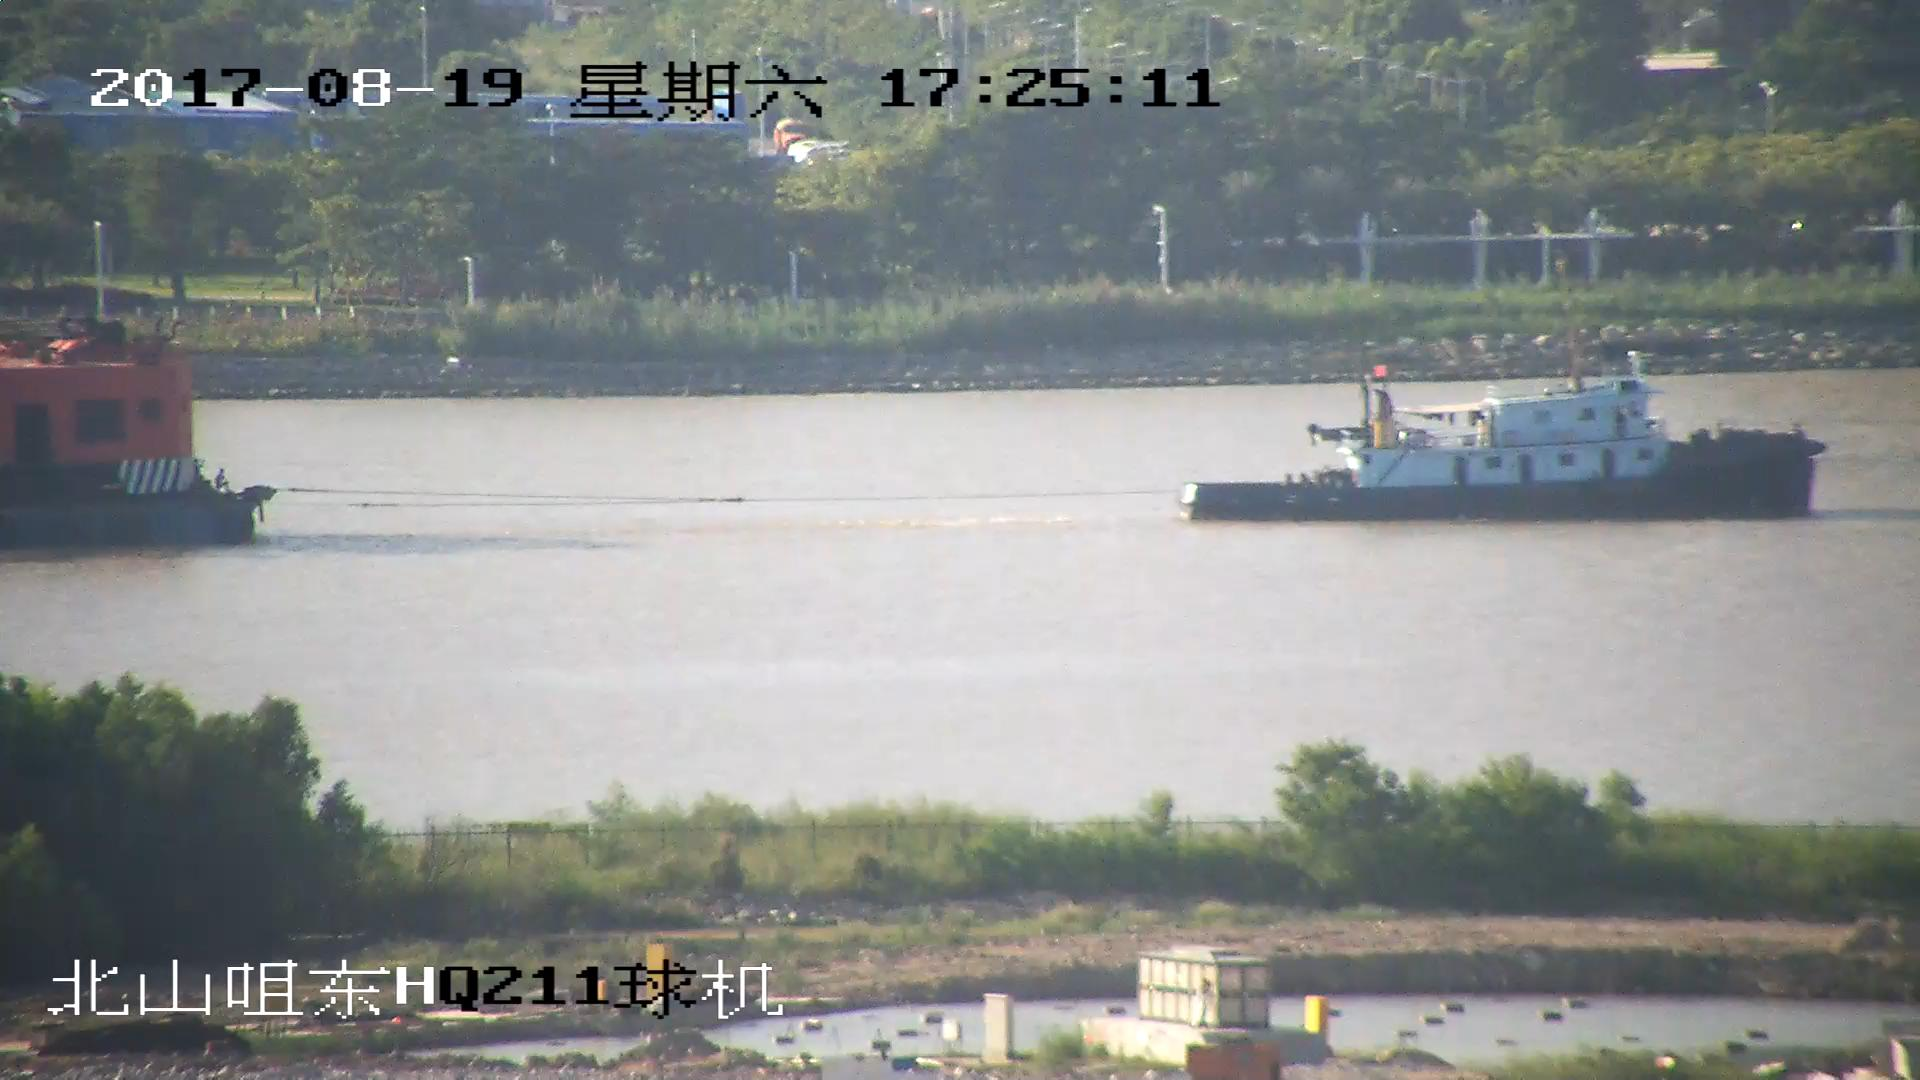fishing boat: (1183, 358, 1833, 517), (1, 318, 266, 540)
